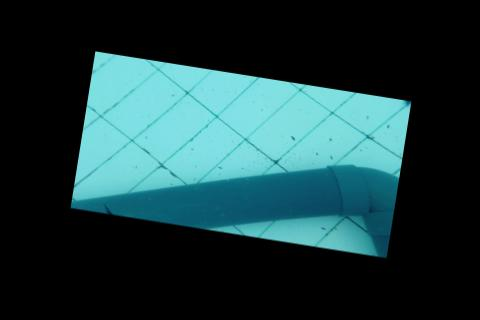keretakan: (100, 202, 117, 214)
